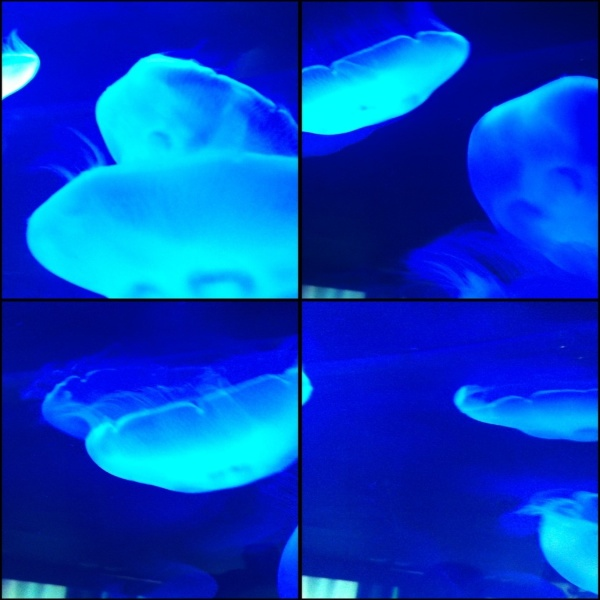Jellyfish: (1, 1, 598, 598)
